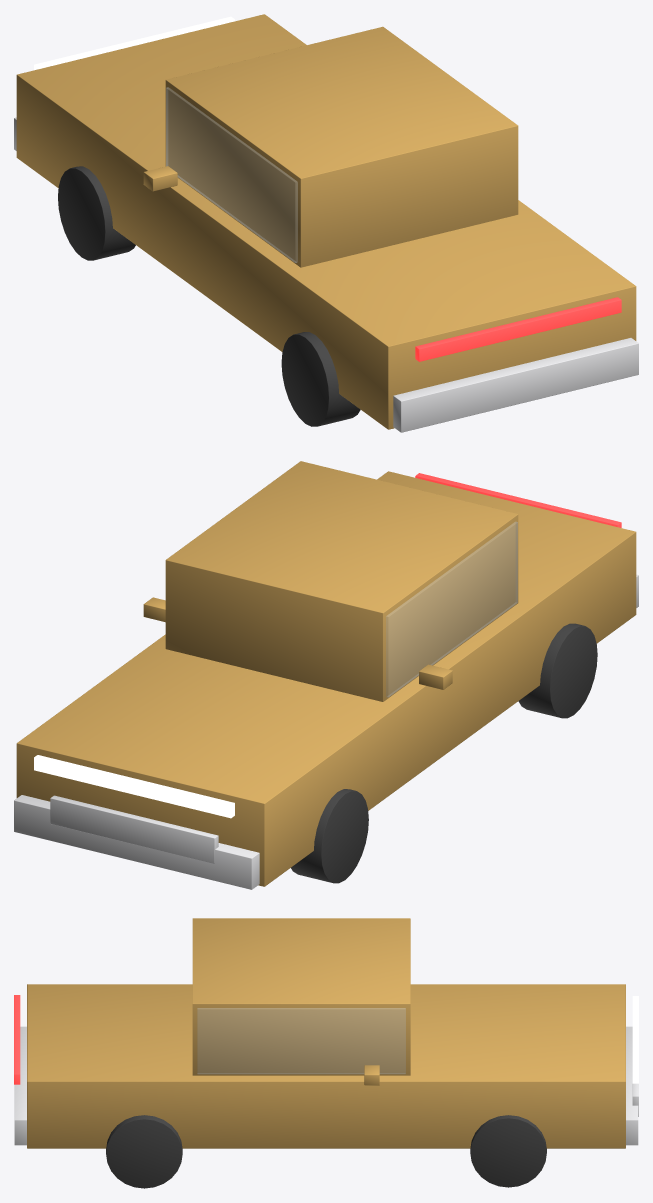
The model's file is vehicle.glb.
The picture shows the model from 3 angles, top to bottom: view 1: azimuth 30°, elevation 25°; view 2: azimuth 150°, elevation 25°; view 3: azimuth 270°, elevation 25°; orthographic projection. The views are drawn at different scales.
Visible parts, largest first — view 1: BODY_Main, BODY_Roof, GLASS_Greenhouse, BODY_Bumpers_Rear, WHEEL_RR_Tire, WHEEL_FR_Tire, LIGHT_Taillights, LIGHT_Headlights, BODY_Mirror_R; view 2: BODY_Main, BODY_Roof, GLASS_Greenhouse, BODY_Bumpers_Front, BODY_Grille, WHEEL_RR_Tire, WHEEL_FR_Tire, LIGHT_Headlights, LIGHT_Taillights, BODY_Mirror_R; view 3: BODY_Main, BODY_Roof, GLASS_Greenhouse, WHEEL_RL_Tire, WHEEL_FL_Tire, BODY_Bumpers_Rear, BODY_Bumpers_Front, LIGHT_Taillights, LIGHT_Headlights.
Boxes of the visible parts, left/top/right/bottom form: BODY_Main: left=16, top=14, right=636, bottom=429; BODY_Roof: left=165, top=26, right=518, bottom=267; GLASS_Greenhouse: left=166, top=87, right=297, bottom=262; BODY_Bumpers_Rear: left=393, top=338, right=638, bottom=432; WHEEL_RR_Tire: left=281, top=332, right=360, bottom=426; WHEEL_FR_Tire: left=58, top=166, right=135, bottom=260; LIGHT_Taillights: left=415, top=297, right=621, bottom=361; LIGHT_Headlights: left=34, top=16, right=234, bottom=70; BODY_Mirror_R: left=143, top=166, right=177, bottom=191; BODY_Main: left=16, top=471, right=636, bottom=886; BODY_Roof: left=165, top=461, right=518, bottom=701; GLASS_Greenhouse: left=386, top=522, right=517, bottom=697; BODY_Bumpers_Front: left=14, top=795, right=259, bottom=889; BODY_Grille: left=50, top=795, right=218, bottom=863; WHEEL_RR_Tire: left=518, top=623, right=597, bottom=718; WHEEL_FR_Tire: left=291, top=789, right=368, bottom=883; LIGHT_Headlights: left=34, top=755, right=234, bottom=818; LIGHT_Taillights: left=415, top=473, right=621, bottom=527; BODY_Mirror_R: left=419, top=664, right=452, bottom=689; BODY_Main: left=27, top=984, right=625, bottom=1148; BODY_Roof: left=192, top=918, right=410, bottom=1075; GLASS_Greenhouse: left=197, top=1008, right=405, bottom=1074; WHEEL_RL_Tire: left=106, top=1115, right=182, bottom=1188; WHEEL_FL_Tire: left=470, top=1115, right=546, bottom=1187; BODY_Bumpers_Rear: left=14, top=1026, right=26, bottom=1145; BODY_Bumpers_Front: left=626, top=1026, right=638, bottom=1145; LIGHT_Taillights: left=14, top=995, right=20, bottom=1084; LIGHT_Headlights: left=632, top=996, right=638, bottom=1083.
Size of the model in its own units: 2.18 by 1.51 by 4.89.
